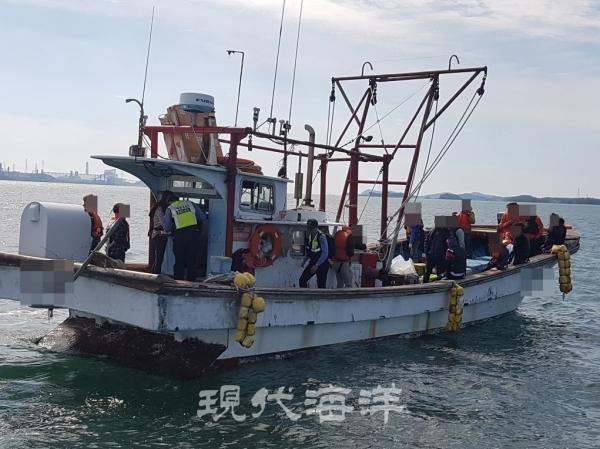Ship: (1, 47, 586, 384)
